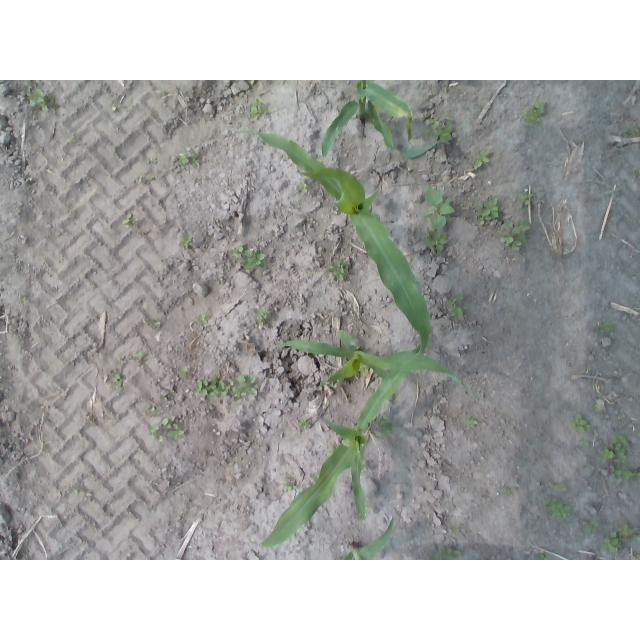Maize: (239, 129, 432, 358), (260, 372, 412, 548), (322, 80, 451, 158), (272, 330, 460, 382), (344, 518, 395, 560)
Weeds: (423, 188, 455, 229), (603, 525, 640, 552), (502, 221, 531, 251), (196, 378, 235, 398), (149, 416, 183, 438), (603, 436, 630, 462), (30, 89, 59, 111), (477, 199, 500, 226), (523, 100, 545, 127), (431, 116, 453, 140), (235, 375, 257, 398), (545, 496, 570, 516), (447, 293, 465, 320), (329, 258, 351, 280), (243, 250, 266, 270), (571, 415, 589, 434), (474, 149, 490, 170), (429, 232, 447, 249), (436, 548, 461, 558), (252, 99, 265, 117), (256, 307, 271, 322), (143, 402, 161, 414), (608, 464, 620, 480), (600, 322, 616, 332), (520, 194, 532, 207), (623, 470, 638, 479), (114, 375, 124, 388), (380, 422, 393, 432), (297, 181, 308, 192), (179, 366, 189, 378), (588, 520, 598, 532), (183, 234, 193, 246), (123, 214, 134, 224), (285, 481, 295, 491), (233, 247, 243, 257), (197, 316, 208, 325), (468, 418, 478, 427), (139, 352, 150, 360), (299, 420, 308, 429), (19, 295, 29, 303), (594, 405, 604, 412), (180, 154, 188, 162), (580, 438, 589, 445), (193, 158, 200, 166), (538, 556, 547, 561), (154, 322, 162, 327)
